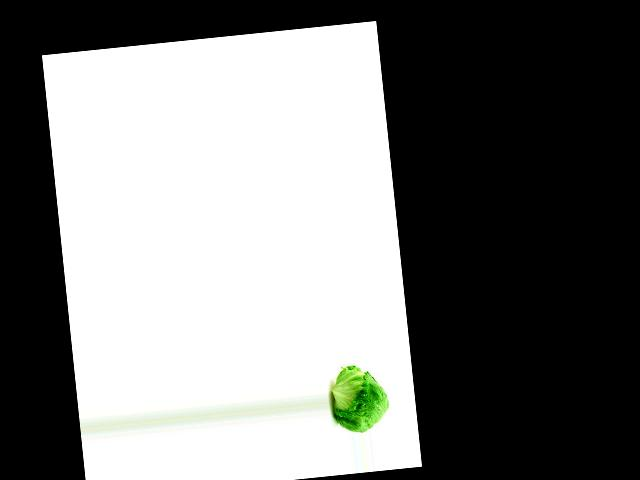lettuce: (328, 362, 393, 437)
